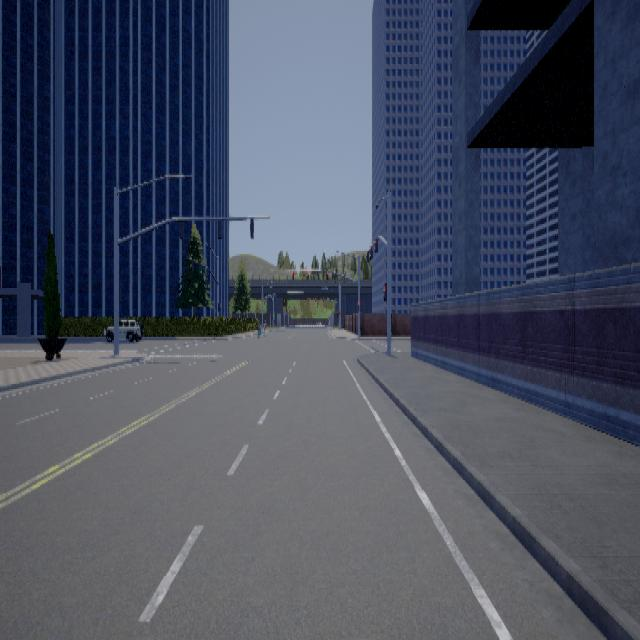green_light: (199, 262, 202, 274)
red_light: (365, 244, 372, 261), (382, 281, 386, 300), (373, 236, 377, 251), (291, 269, 293, 278)
traffic_light: (191, 258, 194, 270), (206, 266, 209, 275)
vehicle: (100, 317, 143, 342)
